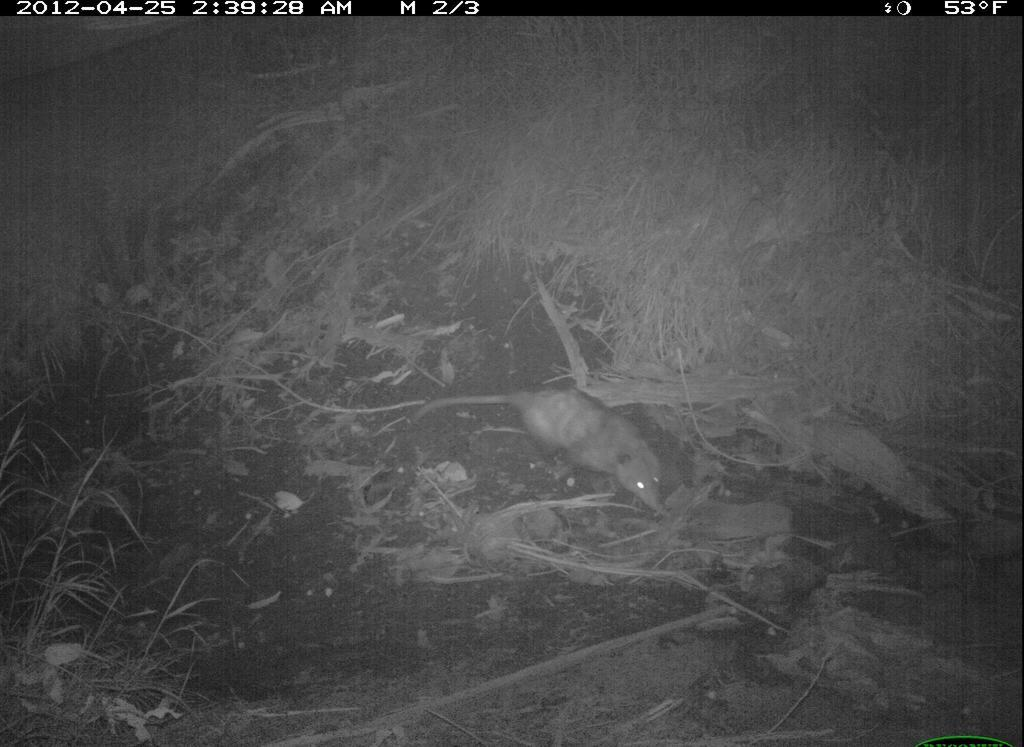opossum: (411, 361, 683, 524)
